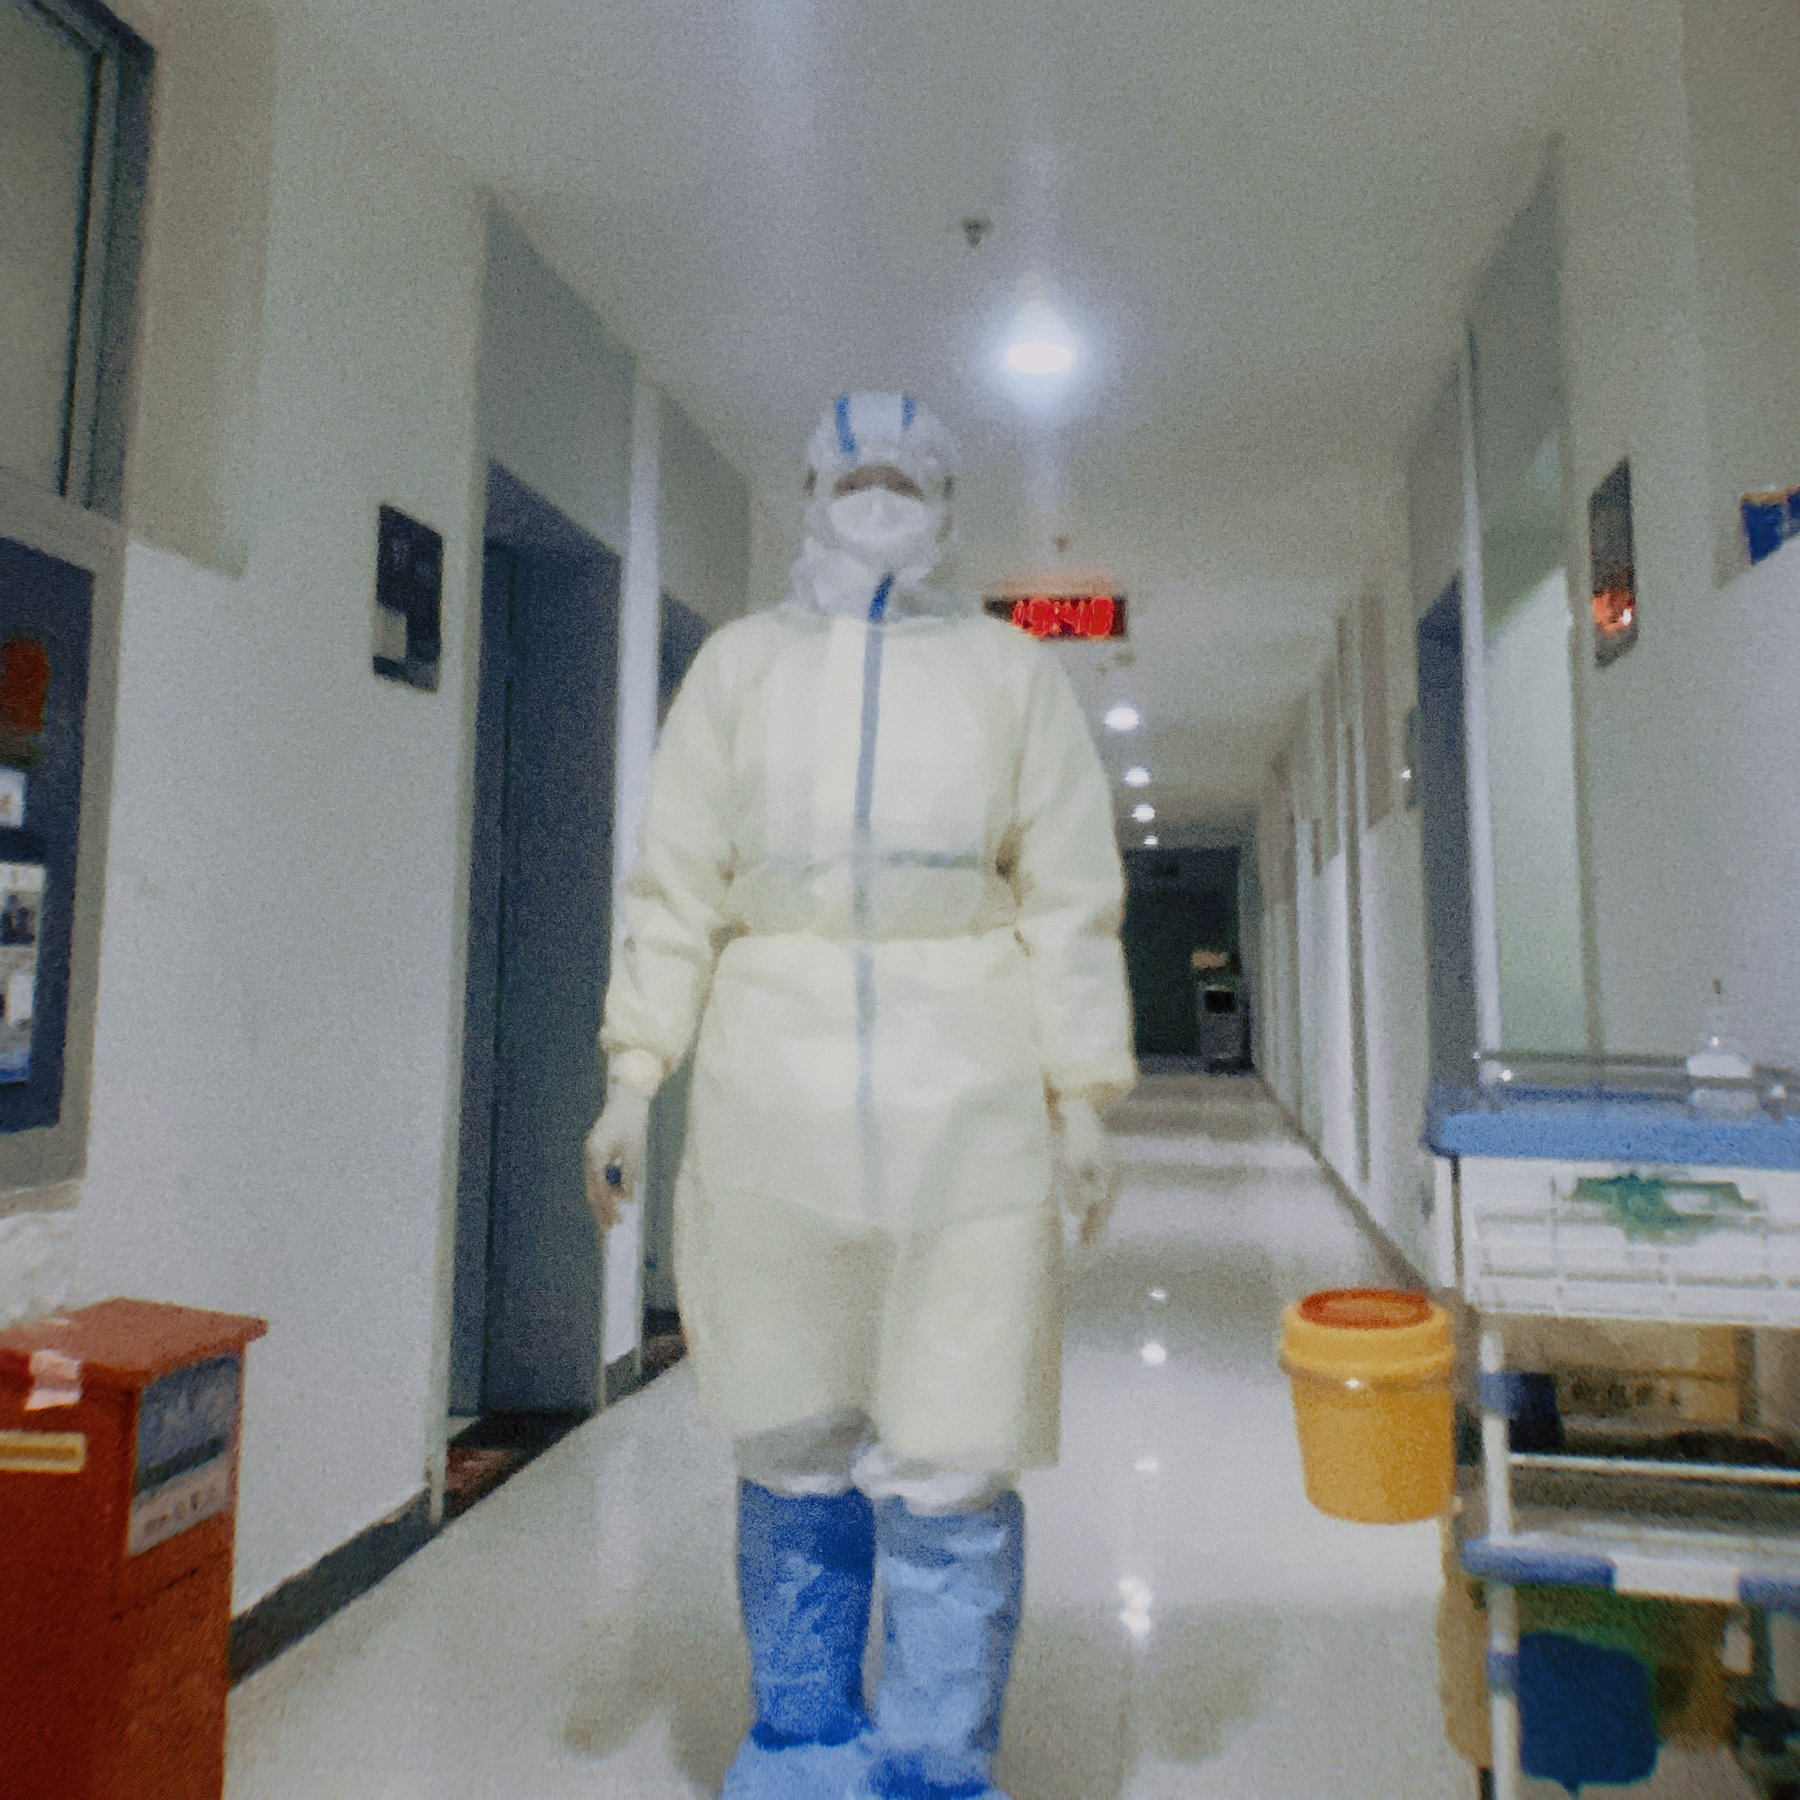Coverall: (577, 390, 1139, 1788)
Gloves: (1051, 1095, 1134, 1254), (584, 1090, 646, 1238)
with_mask: (829, 490, 941, 564)
